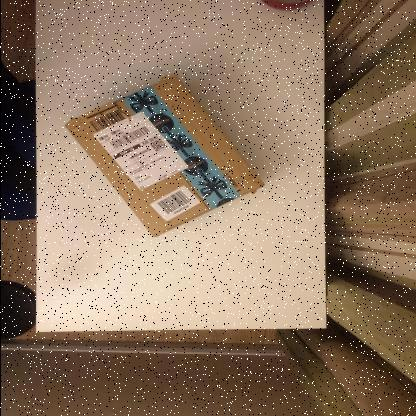cardboard: (62, 72, 264, 238)
